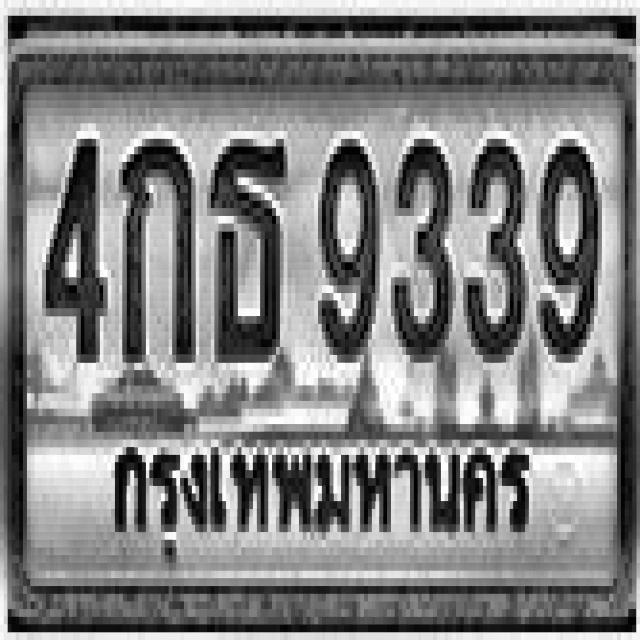license-plate: (8, 44, 633, 630)
